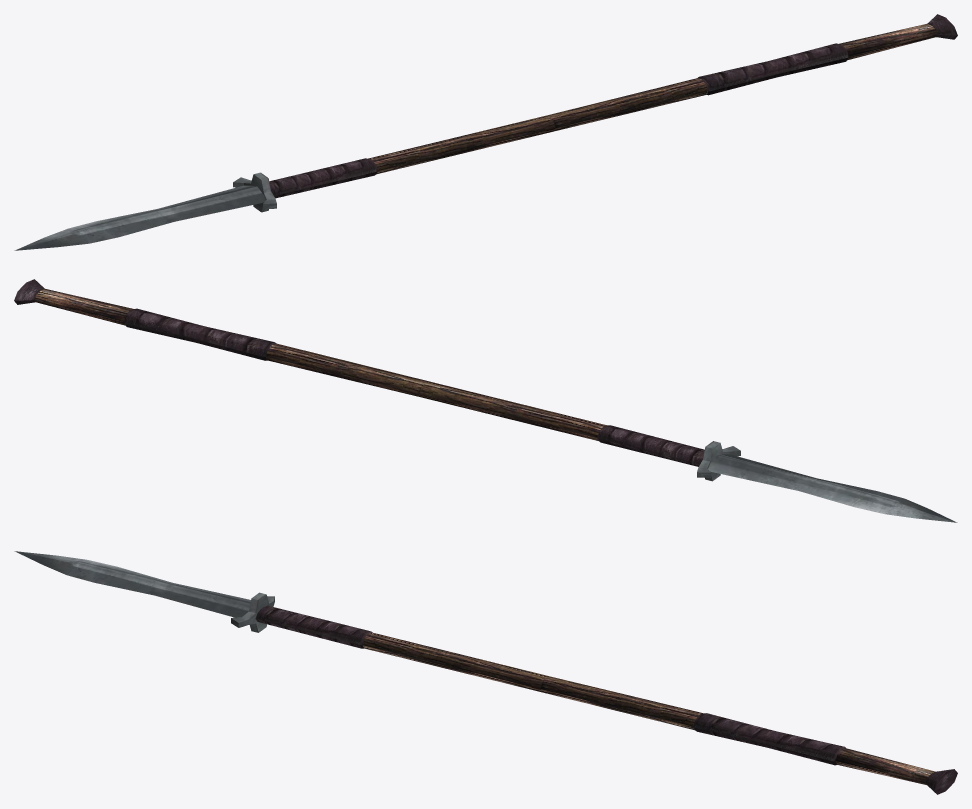
Rendered from ITMW_2H_SPEAR_02.glb.
3 views of the same model, one above another, from view 1: azimuth 30°, elevation 25°; view 2: azimuth 150°, elevation 25°; view 3: azimuth 330°, elevation 25° (orthographic).
Visible parts, largest first — view 1: ITMW_2H_SPEAR_02; view 2: ITMW_2H_SPEAR_02; view 3: ITMW_2H_SPEAR_02.
Part boxes in pixels (x1,y1,x2,y2): ITMW_2H_SPEAR_02: (14,14,957,250); ITMW_2H_SPEAR_02: (14,279,957,522); ITMW_2H_SPEAR_02: (14,551,957,794).
Bounding box in the file's own units: 1.96 × 0.0655 × 0.1319.
Materials: 3 (3 with a texture image).
